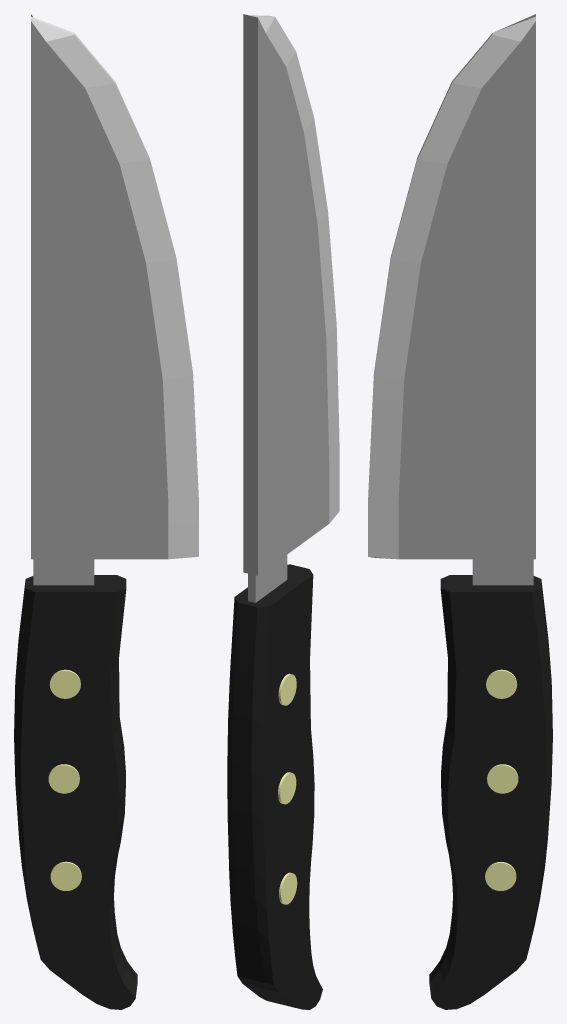
The model's file is cumchillo.fbx.
The picture shows the model from 3 angles, left to right: view 1: azimuth 90°, elevation 25°; view 2: azimuth 150°, elevation 25°; view 3: azimuth 270°, elevation 25°; orthographic projection. The views are drawn at different scales.
Parts seen in each view (by area): view 1: Knife; view 2: Knife; view 3: Knife.
Boxes of the visible parts, x1,y1,x2,y2 form: Knife: [14, 14, 198, 1009]; Knife: [227, 14, 339, 1009]; Knife: [368, 14, 552, 1009].
Bounding box in the file's own units: 7.67 × 183 × 31.11.
1 material, 1 textured.
